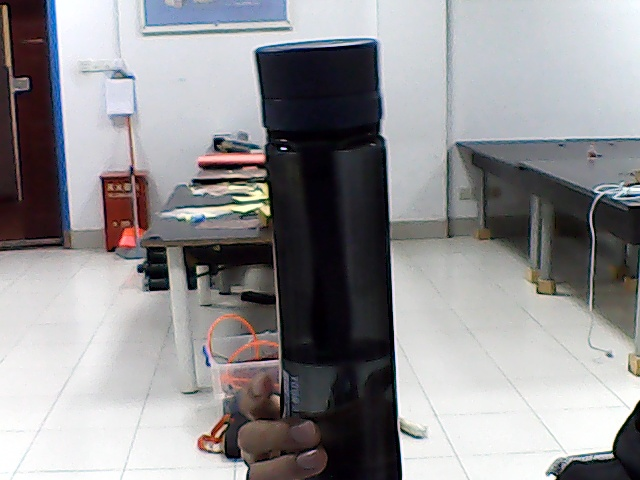cup: (308, 81, 381, 453)
